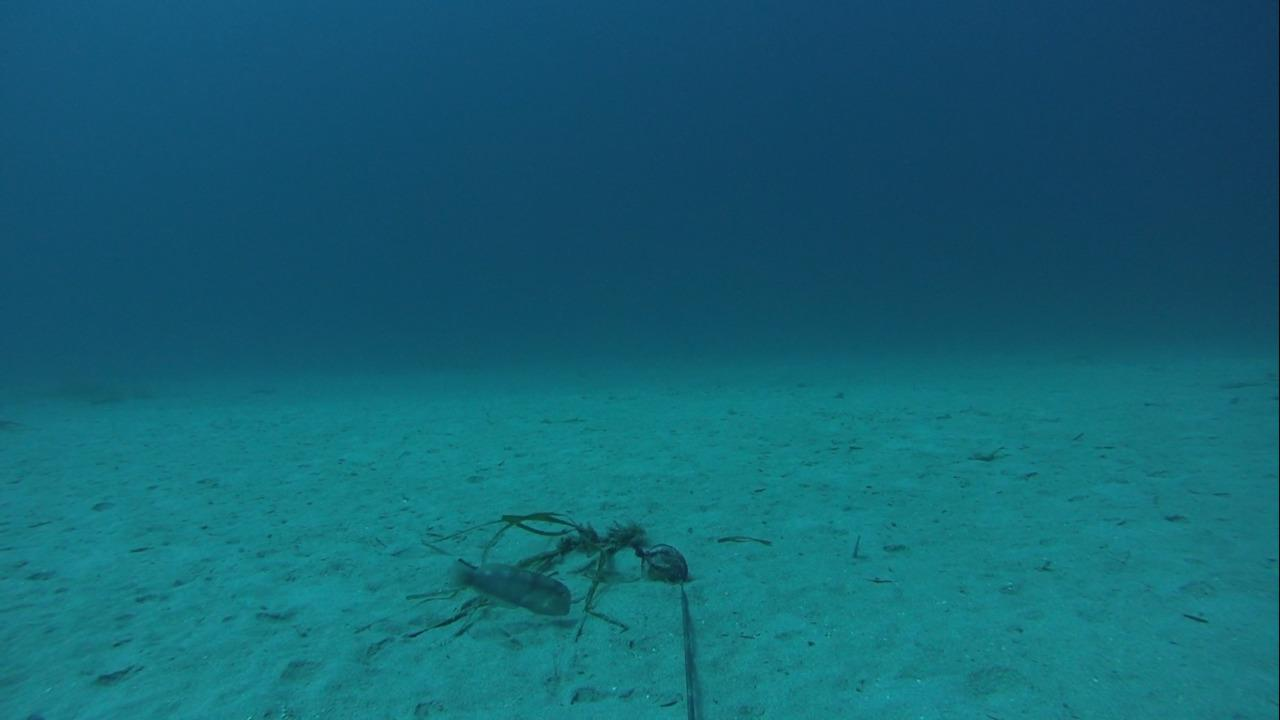raor: (439, 554, 577, 621)
